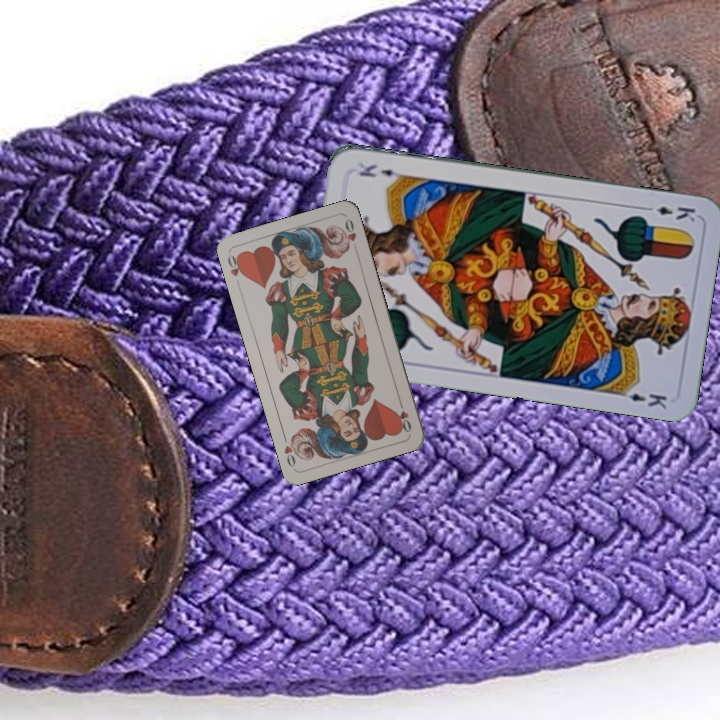EK: (639, 202, 698, 224)
HO: (394, 396, 414, 435), (223, 250, 247, 279)
